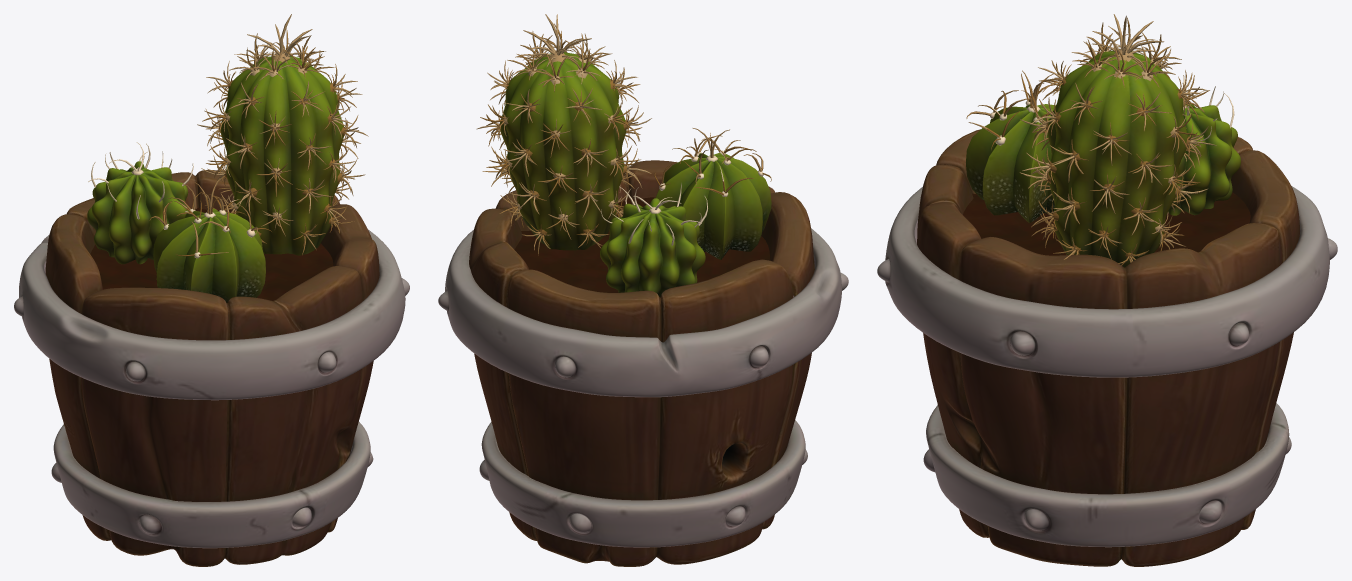
3 renders of one model, left to right at view 1: azimuth 30°, elevation 25°; view 2: azimuth 150°, elevation 25°; view 3: azimuth 270°, elevation 25°, orthographic. The views are drawn at different scales.
Parts seen in each view (by area): view 1: pCylinder3_low, pCylinder5_low, pCylinder2_low, pCylinder4_low, pCylinder1_low, pSphere1_low, pPlane1_low; view 2: pCylinder3_low, pCylinder5_low, pCylinder2_low, pCylinder4_low, pCylinder1_low, pSphere1_low, pPlane1_low; view 3: pCylinder3_low, pCylinder5_low, pCylinder2_low, pCylinder4_low, pCylinder1_low, pPlane1_low, pSphere1_low.
Boxes of the visible parts, x1=… form: pCylinder3_low: x1=45, y1=170, x2=379, y2=566; pCylinder5_low: x1=14, y1=229, x2=409, y2=400; pCylinder2_low: x1=220, y1=56, x2=343, y2=255; pCylinder4_low: x1=51, y1=421, x2=373, y2=548; pCylinder1_low: x1=153, y1=208, x2=265, y2=302; pSphere1_low: x1=87, y1=161, x2=188, y2=264; pPlane1_low: x1=90, y1=207, x2=333, y2=300; pCylinder3_low: x1=469, y1=160, x2=814, y2=566; pCylinder5_low: x1=438, y1=228, x2=848, y2=397; pCylinder2_low: x1=500, y1=52, x2=626, y2=250; pCylinder4_low: x1=479, y1=420, x2=807, y2=547; pCylinder1_low: x1=655, y1=153, x2=771, y2=259; pSphere1_low: x1=600, y1=198, x2=705, y2=297; pPlane1_low: x1=514, y1=197, x2=769, y2=292; pCylinder3_low: x1=917, y1=129, x2=1299, y2=566; pCylinder5_low: x1=877, y1=186, x2=1337, y2=377; pCylinder2_low: x1=1047, y1=50, x2=1187, y2=267; pCylinder4_low: x1=923, y1=403, x2=1291, y2=547; pCylinder1_low: x1=965, y1=104, x2=1055, y2=222; pPlane1_low: x1=963, y1=192, x2=1250, y2=255; pSphere1_low: x1=1168, y1=104, x2=1240, y2=215.
Size of the model in its own units: 8.73 by 12.01 by 9.2.
Materials: 1 (1 with a texture image).
